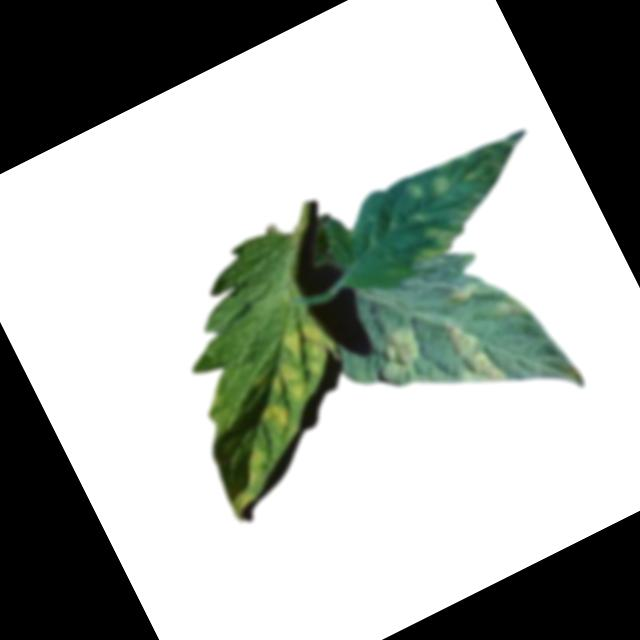Leaf_Mold: (231, 309, 361, 435), (431, 306, 511, 400), (364, 321, 432, 385), (408, 217, 464, 265), (234, 446, 273, 487), (441, 277, 482, 311), (399, 177, 430, 208), (426, 169, 455, 199)
